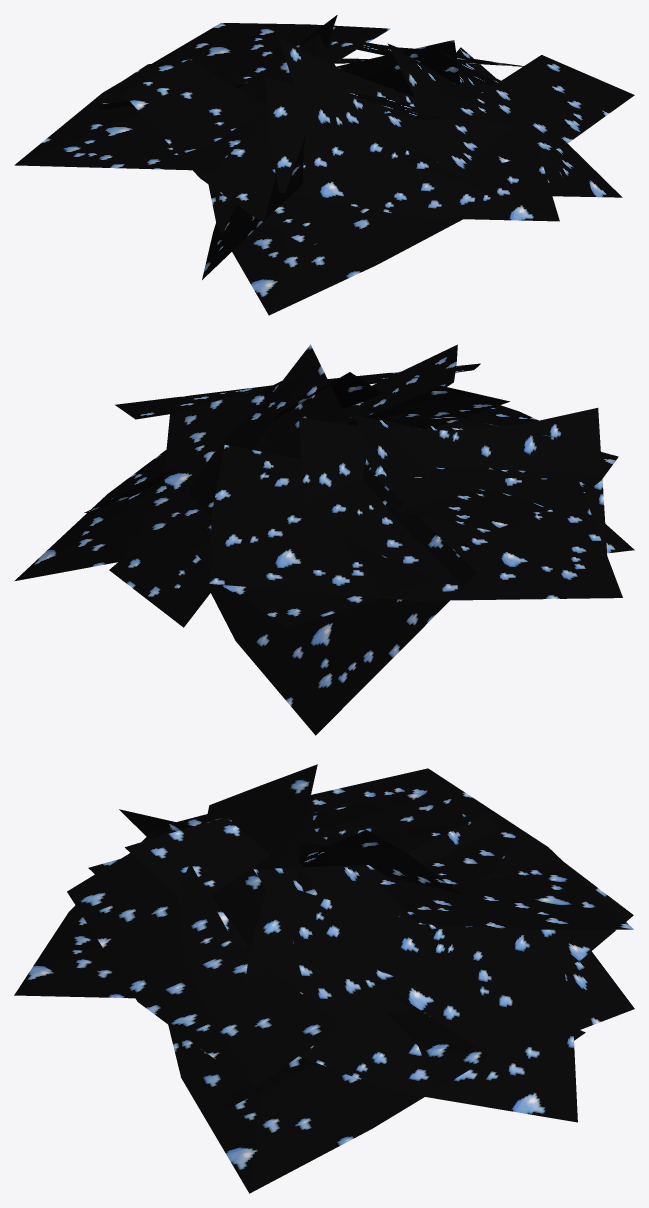
3 views of the same model, one above another, from view 1: azimuth 30°, elevation 25°; view 2: azimuth 150°, elevation 25°; view 3: azimuth 270°, elevation 25° (orthographic). The views are drawn at different scales.
Visible parts, largest first — view 1: 1491; view 2: 1491; view 3: 1491.
Part boxes in pixels (box(x1,y1,x2,y2)): 1491: box(14, 15, 634, 315); 1491: box(14, 344, 634, 735); 1491: box(14, 764, 634, 1193).
Bounding box in the file's own units: 2.51 × 0.9678 × 2.12.
Materials: 1 (1 with a texture image).
